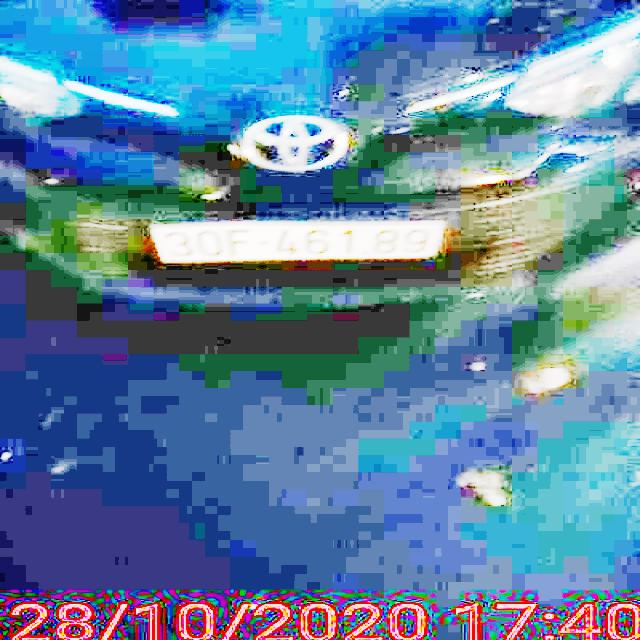license_plate: (150, 224, 442, 259)
